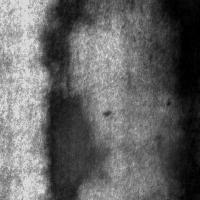patches: (52, 84, 172, 200), (84, 96, 186, 198), (161, 1, 200, 199), (43, 88, 103, 199), (142, 0, 200, 104), (40, 1, 88, 76)
